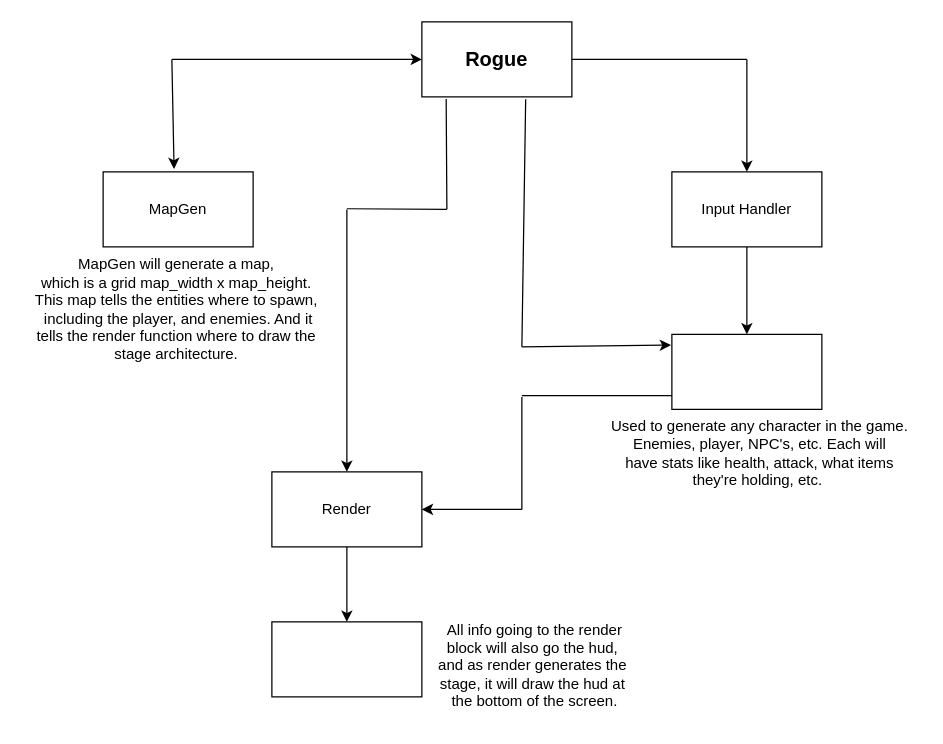
This 943x744 diagram has some shape labels left out. Each missing label, with the centre of its shape:
Entities: (x=746, y=371)
hud: (x=346, y=659)
